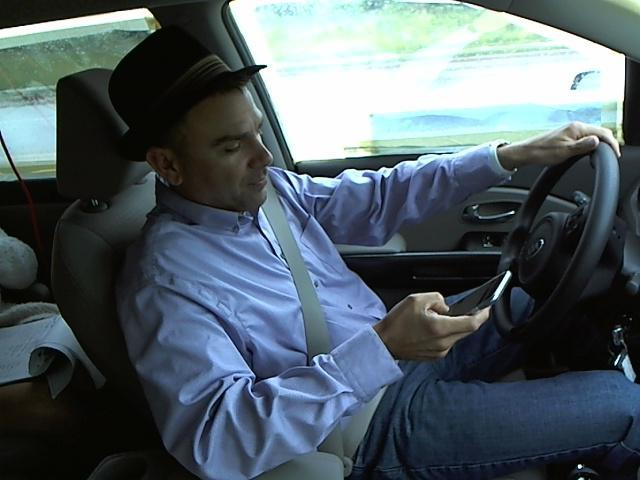PhoneUse: (421, 267, 514, 327)
